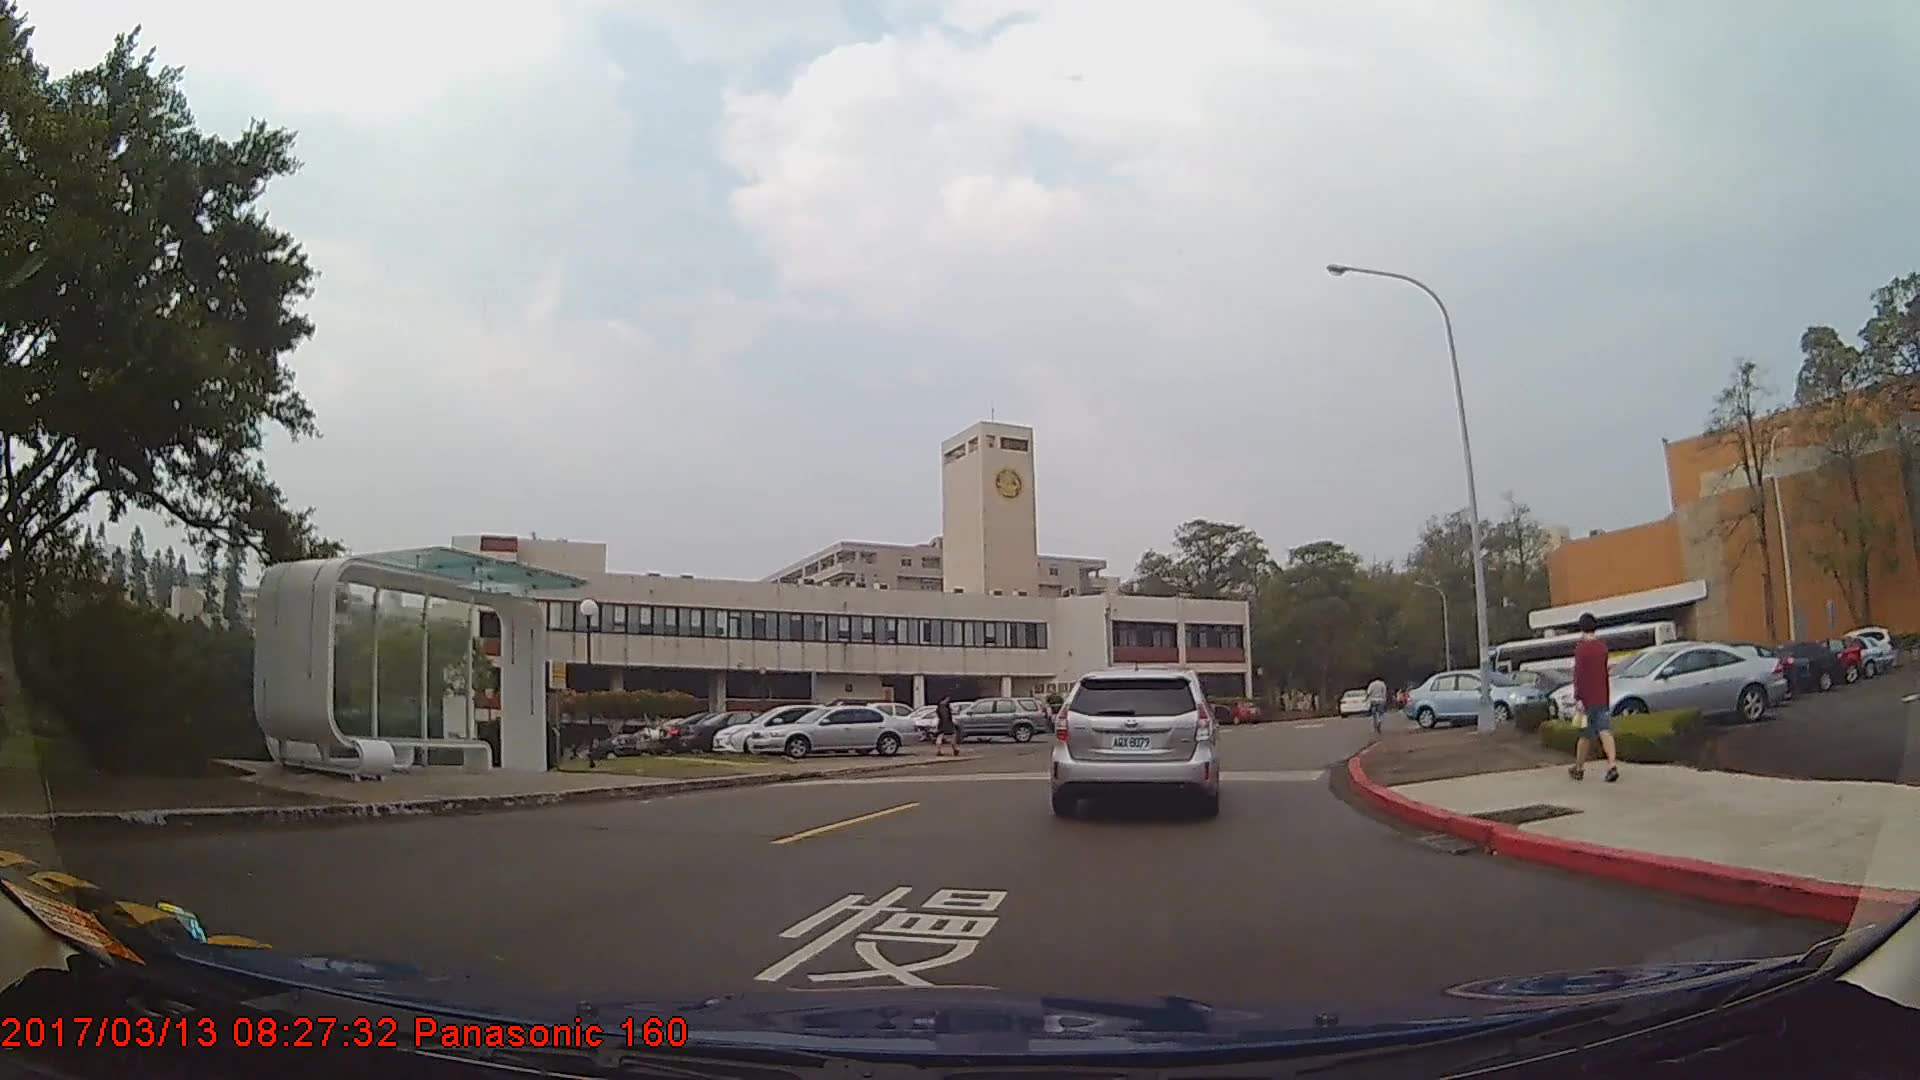pedestrian: (1566, 610, 1621, 782), (935, 693, 961, 760), (1366, 672, 1390, 735)
vehicle: (1052, 669, 1218, 816), (1566, 640, 1785, 727), (746, 703, 920, 758), (705, 699, 873, 750), (1401, 668, 1544, 727), (1729, 640, 1840, 693), (926, 694, 1051, 741), (678, 708, 793, 754), (1337, 686, 1372, 717)
